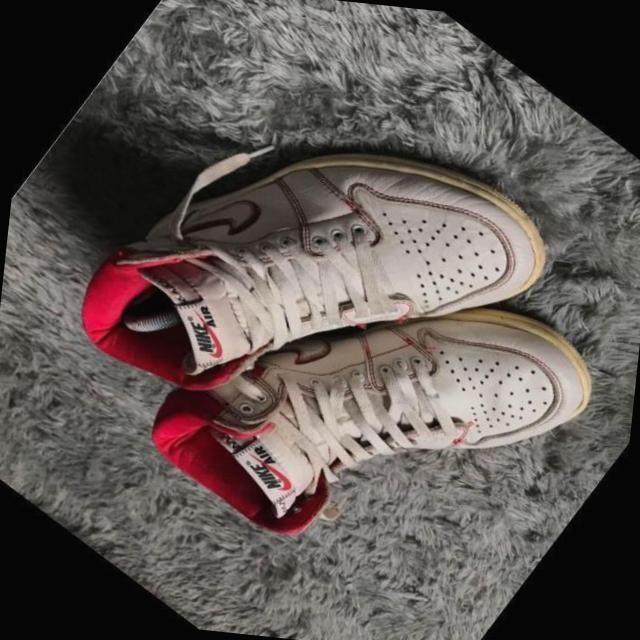nike_original_jordan: (37, 2, 590, 558), (115, 149, 630, 640)
